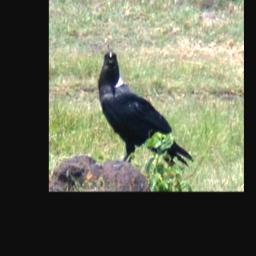Crow: (96, 49, 195, 171)
